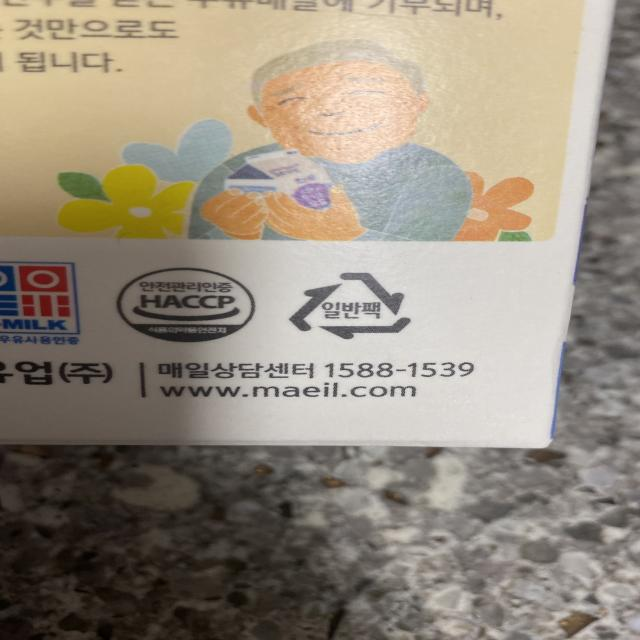NormalPack: (283, 262, 420, 344)
